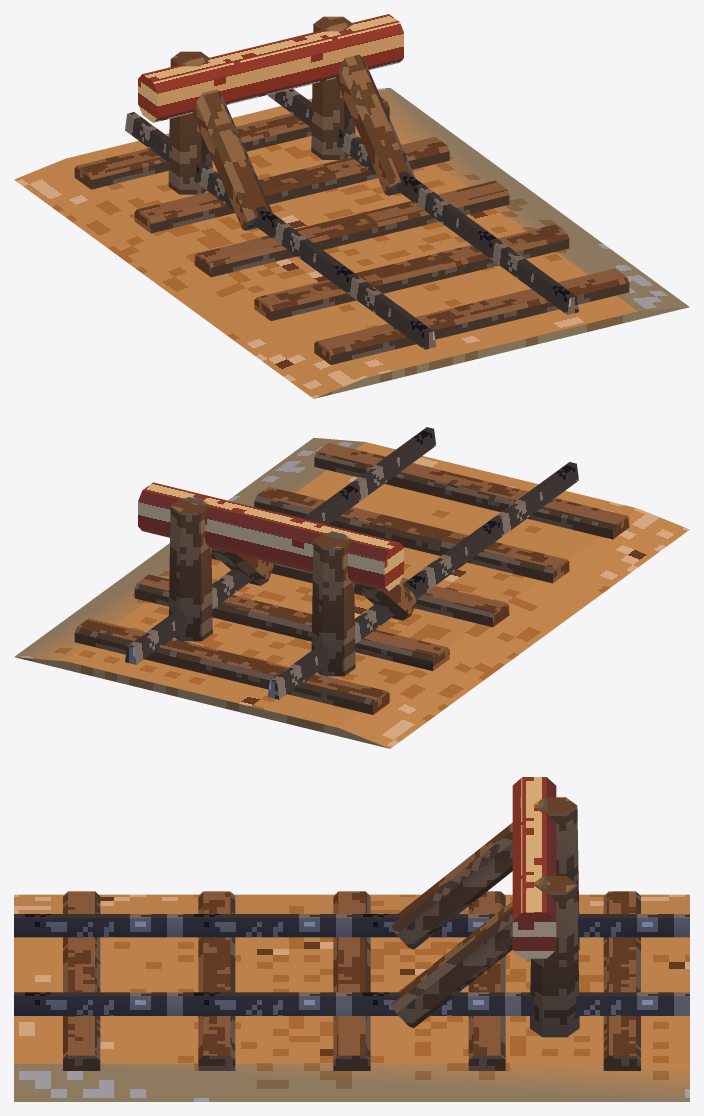
Rendered from wrail.track__bumper.glb.
The picture shows the model from 3 angles, top to bottom: view 1: azimuth 30°, elevation 25°; view 2: azimuth 150°, elevation 25°; view 3: azimuth 270°, elevation 25°; orthographic projection. The views are drawn at different scales.
Visible parts, largest first — view 1: kit_ballast, kit_ties, kit_bumper, kit_rails; view 2: kit_ballast, kit_ties, kit_bumper, kit_rails; view 3: kit_ballast, kit_rails, kit_bumper, kit_ties.
Boxes of the visible parts, box(x1,y1,x2,y2) form: kit_ballast: box(14, 88, 689, 398); kit_ties: box(74, 97, 629, 364); kit_bumper: box(138, 14, 415, 230); kit_rails: box(125, 89, 578, 349); kit_ballast: box(14, 437, 689, 748); kit_ties: box(74, 443, 629, 714); kit_bumper: box(138, 482, 416, 676); kit_rails: box(125, 427, 578, 699); kit_ballast: box(14, 894, 689, 1101); kit_rails: box(14, 914, 689, 1015); kit_bumper: box(391, 777, 579, 1037); kit_ties: box(63, 891, 640, 1070).
Size of the model in its own units: 2.9 by 1.03 by 4.
Materials: 5 (5 with a texture image).
